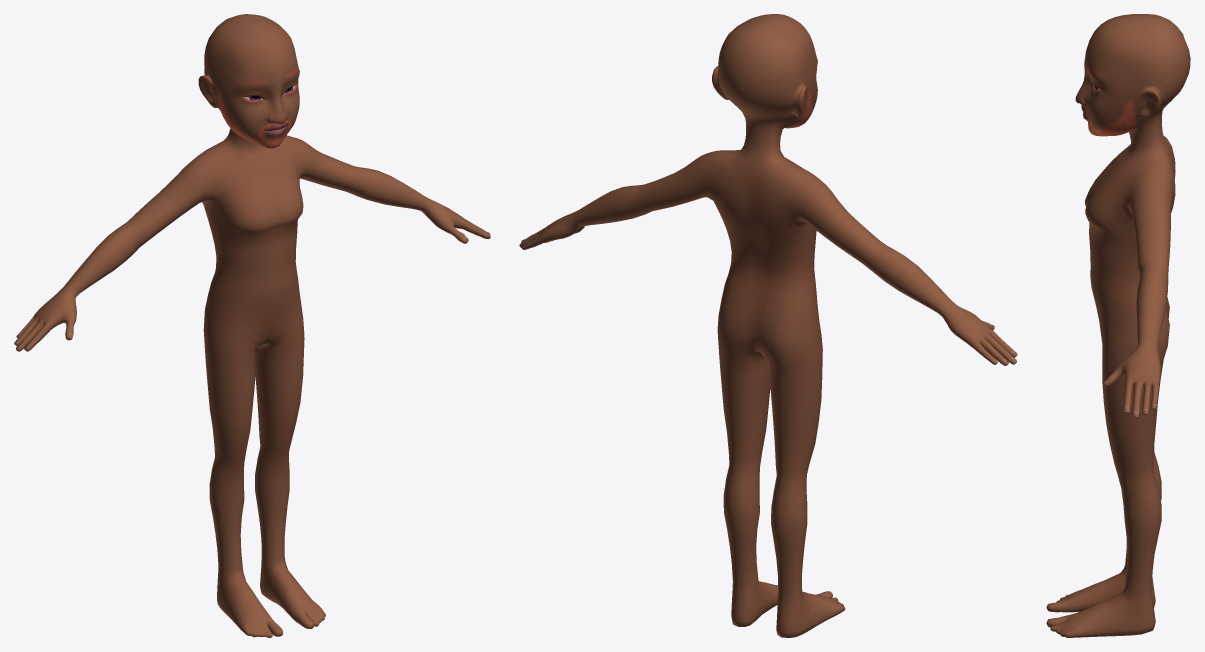
File: frame_0078.glb
3 renders of one model, left to right at view 1: azimuth 30°, elevation 25°; view 2: azimuth 150°, elevation 25°; view 3: azimuth 270°, elevation 25°, orthographic. The views are drawn at different scales.
Visible parts, largest first — view 1: frame_0078_head_geo; view 2: frame_0078_head_geo; view 3: frame_0078_head_geo.
Boxes of the visible parts, x1=… form: frame_0078_head_geo: x1=14, y1=14, x2=490, y2=637; frame_0078_head_geo: x1=519, y1=14, x2=1017, y2=637; frame_0078_head_geo: x1=1046, y1=14, x2=1190, y2=637.
Size of the model in its own units: 1.28 by 1.5 by 0.3253.
Materials: 3 (3 with a texture image).
